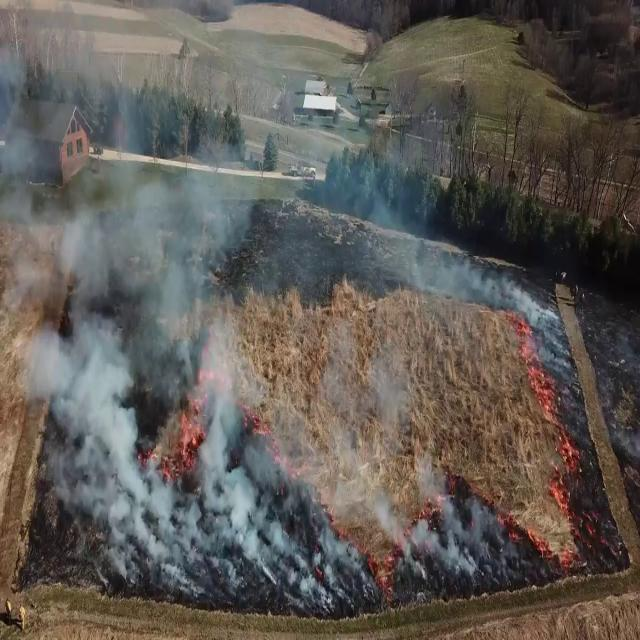Smoke: (0, 1, 291, 584), (12, 324, 502, 594)
